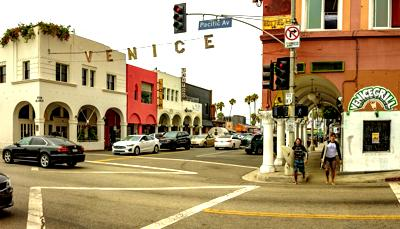International Road Signal Light: (275, 57, 290, 90), (172, 3, 186, 34), (263, 60, 273, 90)
